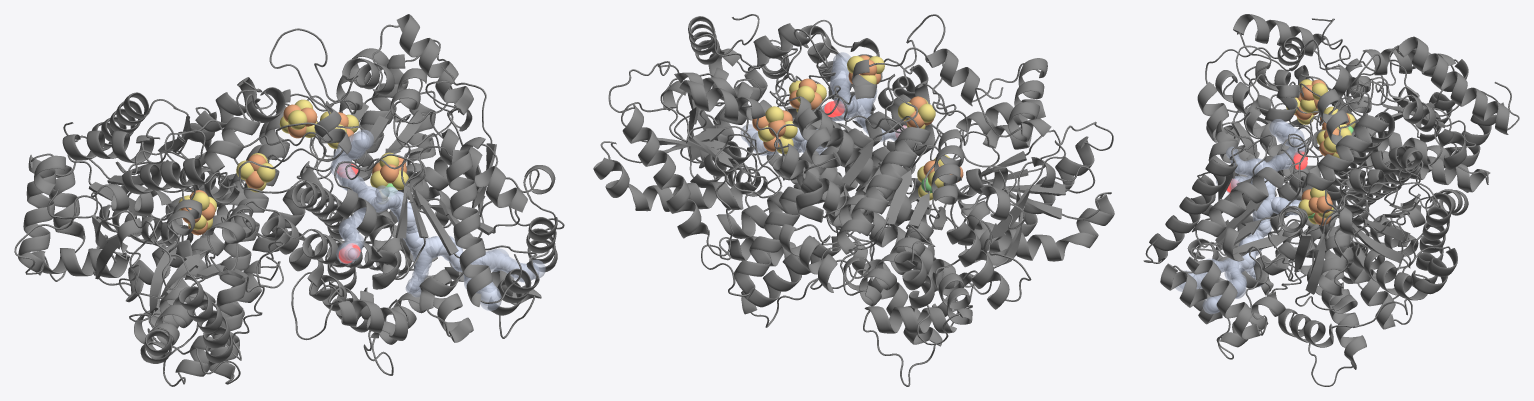
The model's file is chcodh2_o2_tunnel_10sec_video.glb.
The picture shows the model from 3 angles, left to right: view 1: azimuth 30°, elevation 25°; view 2: azimuth 150°, elevation 25°; view 3: azimuth 270°, elevation 25°; orthographic projection. The views are drawn at different scales.
Visible parts, largest first — view 1: Fixed_Protein_and_Metals, Fixed_Transparent_Tunnel, O2_Trajectory_F2; view 2: Fixed_Protein_and_Metals, Fixed_Transparent_Tunnel; view 3: Fixed_Protein_and_Metals, Fixed_Transparent_Tunnel.
Part boxes in pixels (x1,y1,x2,y2): Fixed_Protein_and_Metals: (14, 14, 564, 386); Fixed_Transparent_Tunnel: (330, 129, 545, 310); O2_Trajectory_F2: (337, 163, 360, 263); Fixed_Protein_and_Metals: (593, 14, 1114, 386); Fixed_Transparent_Tunnel: (740, 52, 907, 155); Fixed_Protein_and_Metals: (1143, 14, 1519, 386); Fixed_Transparent_Tunnel: (1175, 119, 1306, 314).
Bounding box in the file's own units: 96.07 × 68.34 × 76.68.
